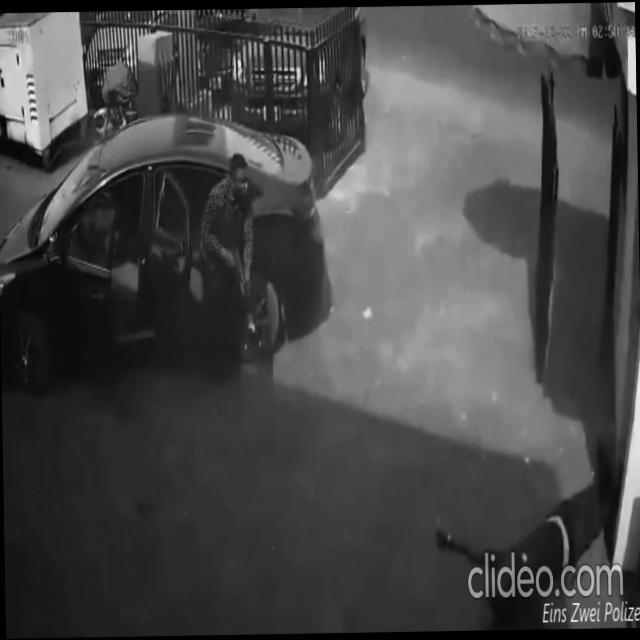gun: (225, 238, 259, 344)
person: (433, 441, 619, 632)
person with a gun: (187, 150, 260, 376)
